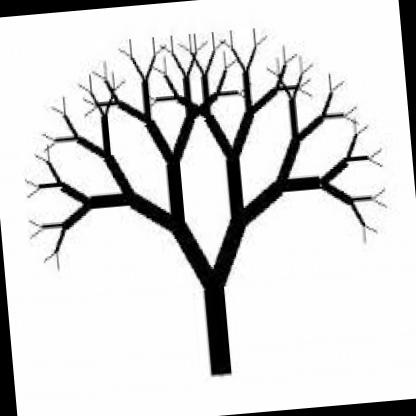trunk_straight: (200, 288, 234, 367)
